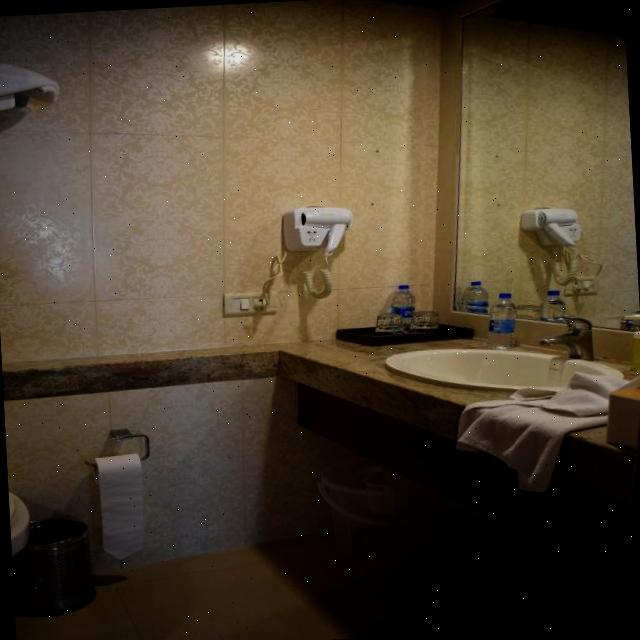clean_floor: (19, 530, 640, 640)
clean_sink: (378, 301, 624, 400)
disorganized_towel: (457, 370, 632, 495)
